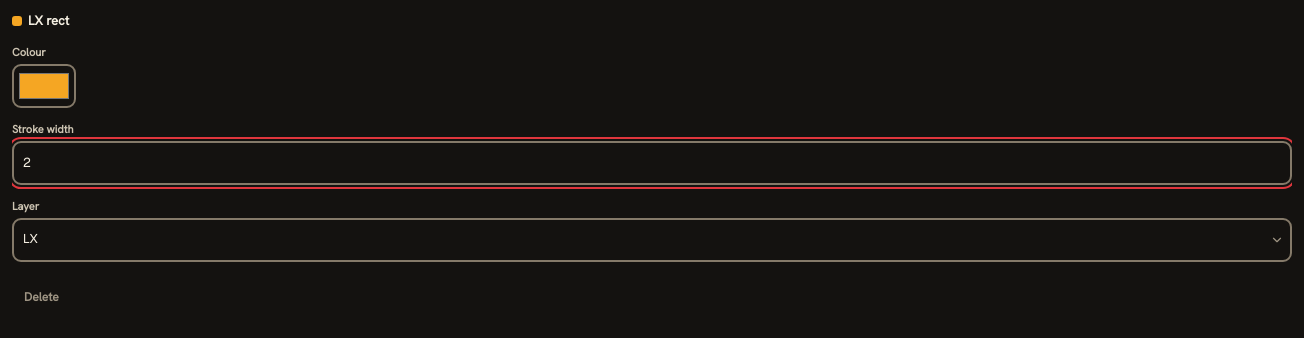
it: Escape in the stroke width field clears its error and restores the stored width
Replace the text in the field labelled "Stroke width" with "wide" at (652,163), box [12,141,1292,185]
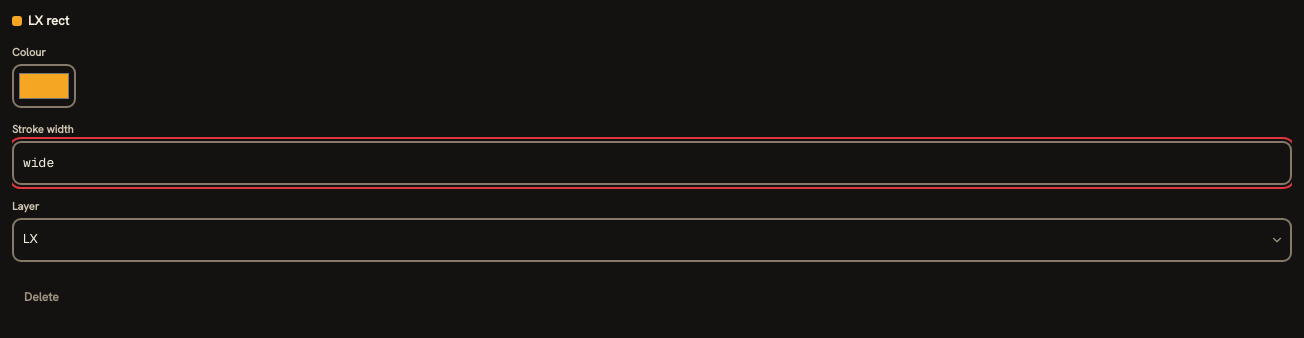
Leave the field labelled "Stroke width", box [12,141,1292,185]
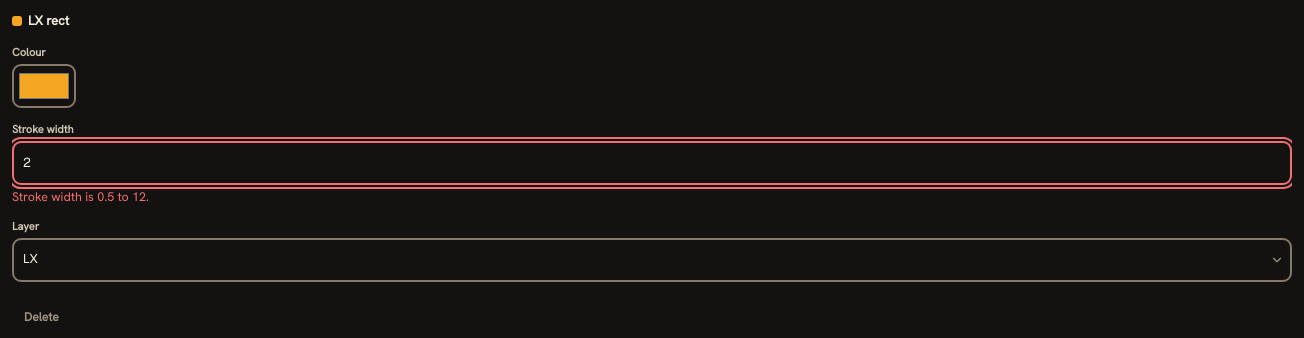
Expected: the message "Stroke width is 0.5 to 12." is shown, [12,188,149,205]
Press Escape in the field labelled "Stroke width", box [12,141,1292,185]
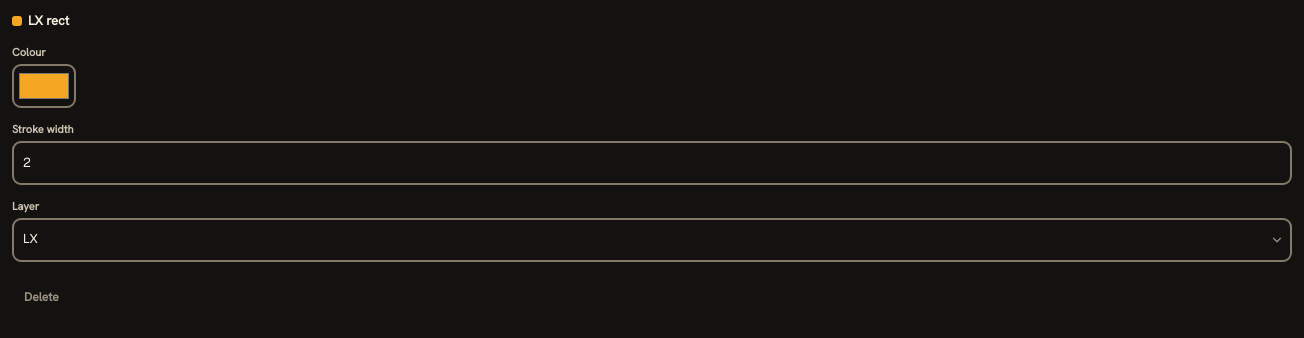
Expected: the field labelled "Stroke width" holds "2", [12,141,1292,185]
Expected: the message "Stroke width is 0.5 to 12." is gone
